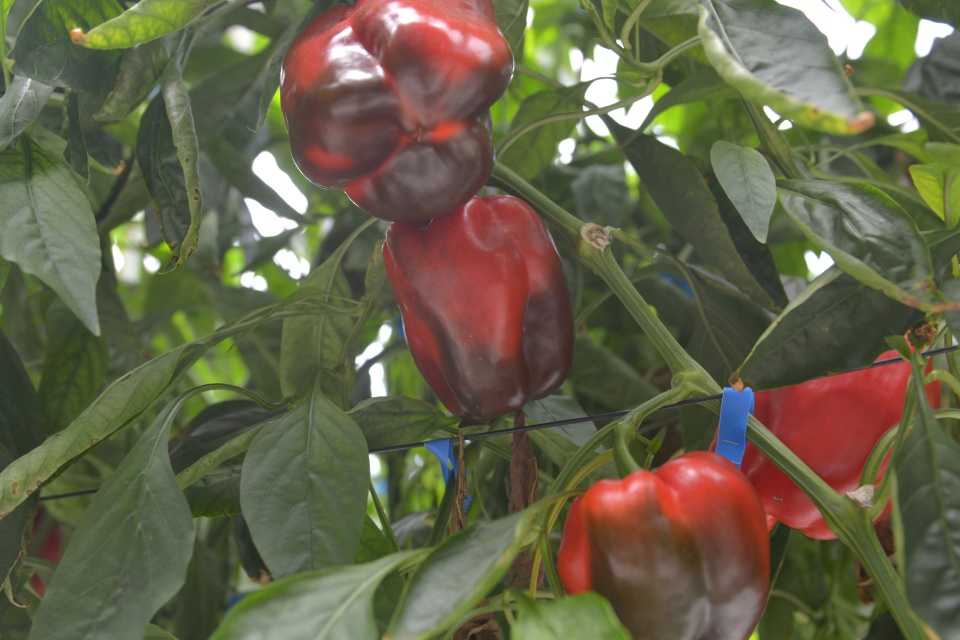fruit: (276, 0, 516, 225), (704, 328, 944, 543), (378, 193, 576, 424), (556, 447, 772, 640), (21, 501, 64, 597)
